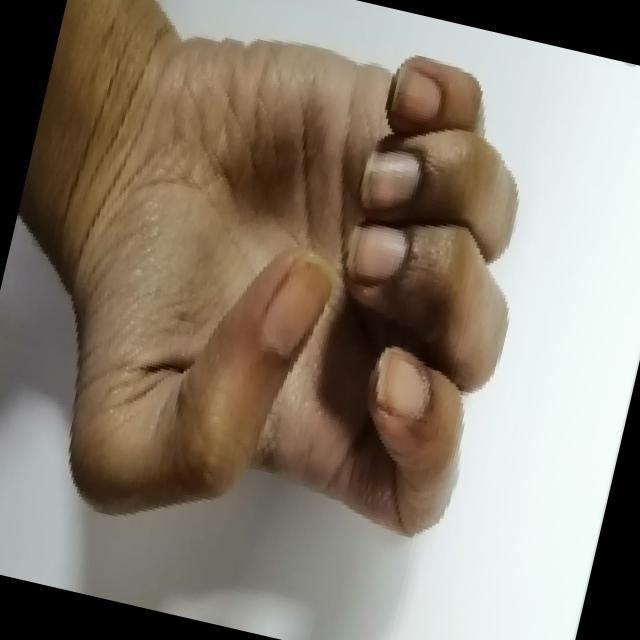Nail: (260, 255, 334, 357), (374, 348, 429, 419), (360, 151, 419, 208), (344, 227, 406, 278), (389, 67, 439, 124)
